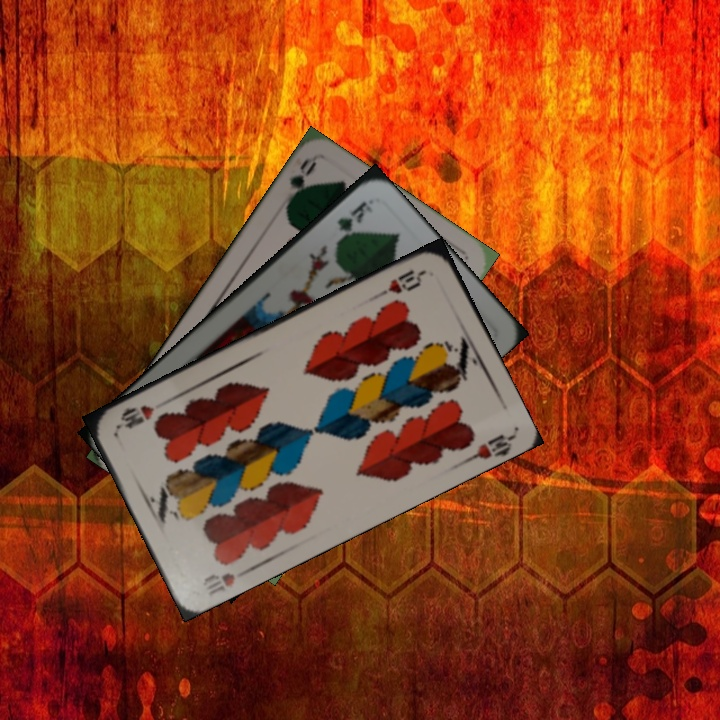GK: (332, 196, 370, 234)
GO: (282, 154, 319, 211)
H10: (373, 265, 429, 300), (198, 564, 254, 598)
